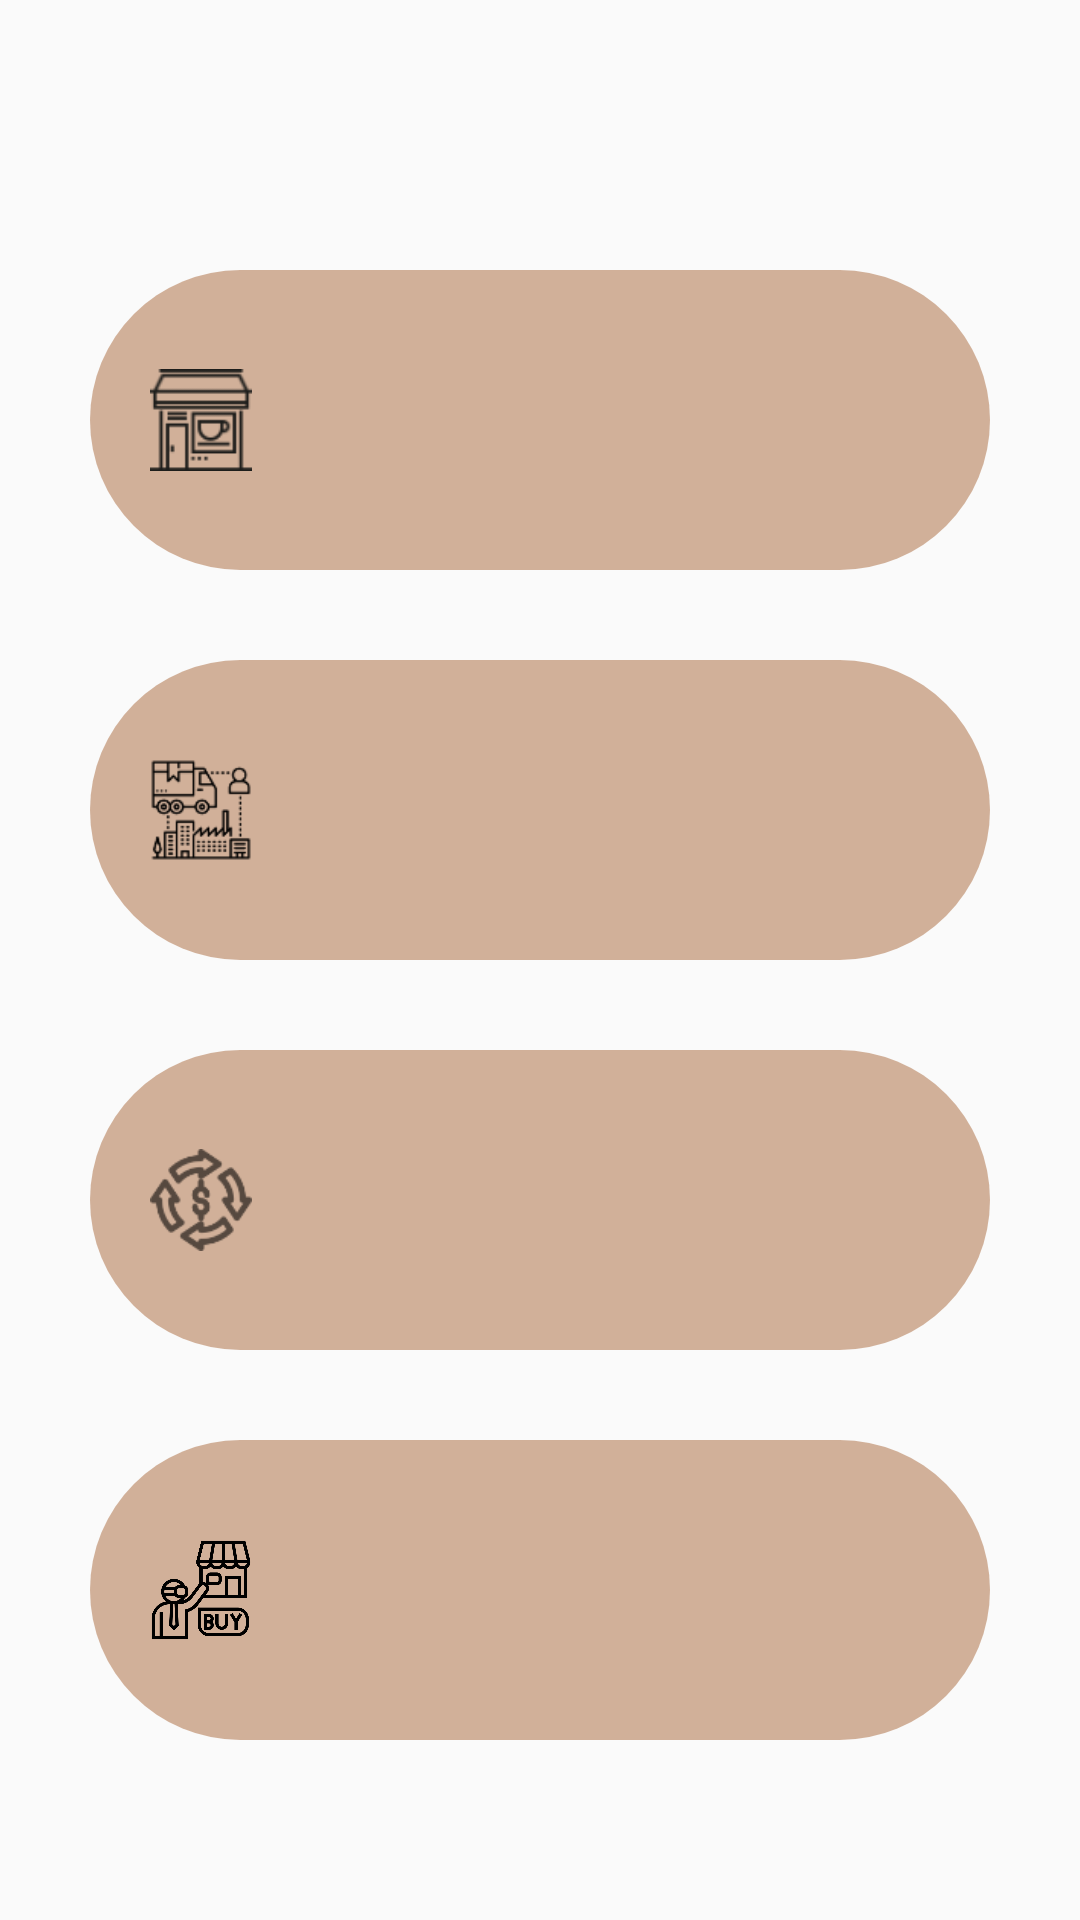

Point at icon controls on the screen. Image size 1080px×1920px, points as (x,y).
cafe: (201,420)
marketplace: (201,1590)
process: (201,1200)
supplier: (201,810)
